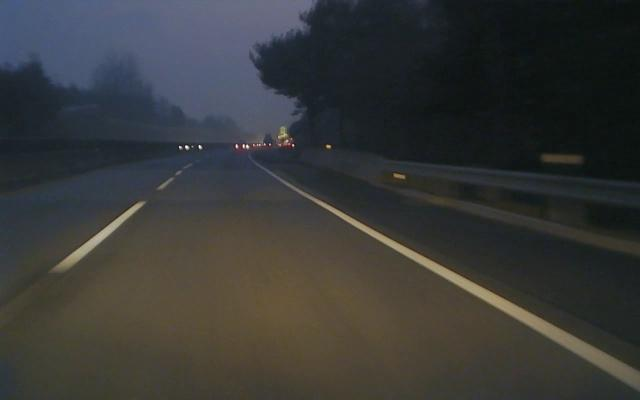lane: (287, 184, 640, 391), (49, 177, 174, 271)
